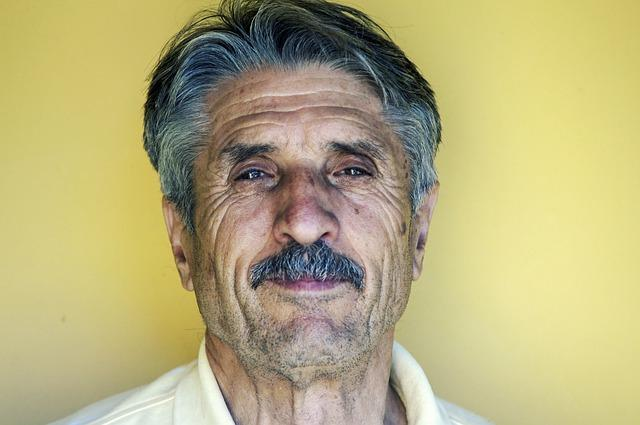Non_Gorille: (133, 3, 519, 425)
